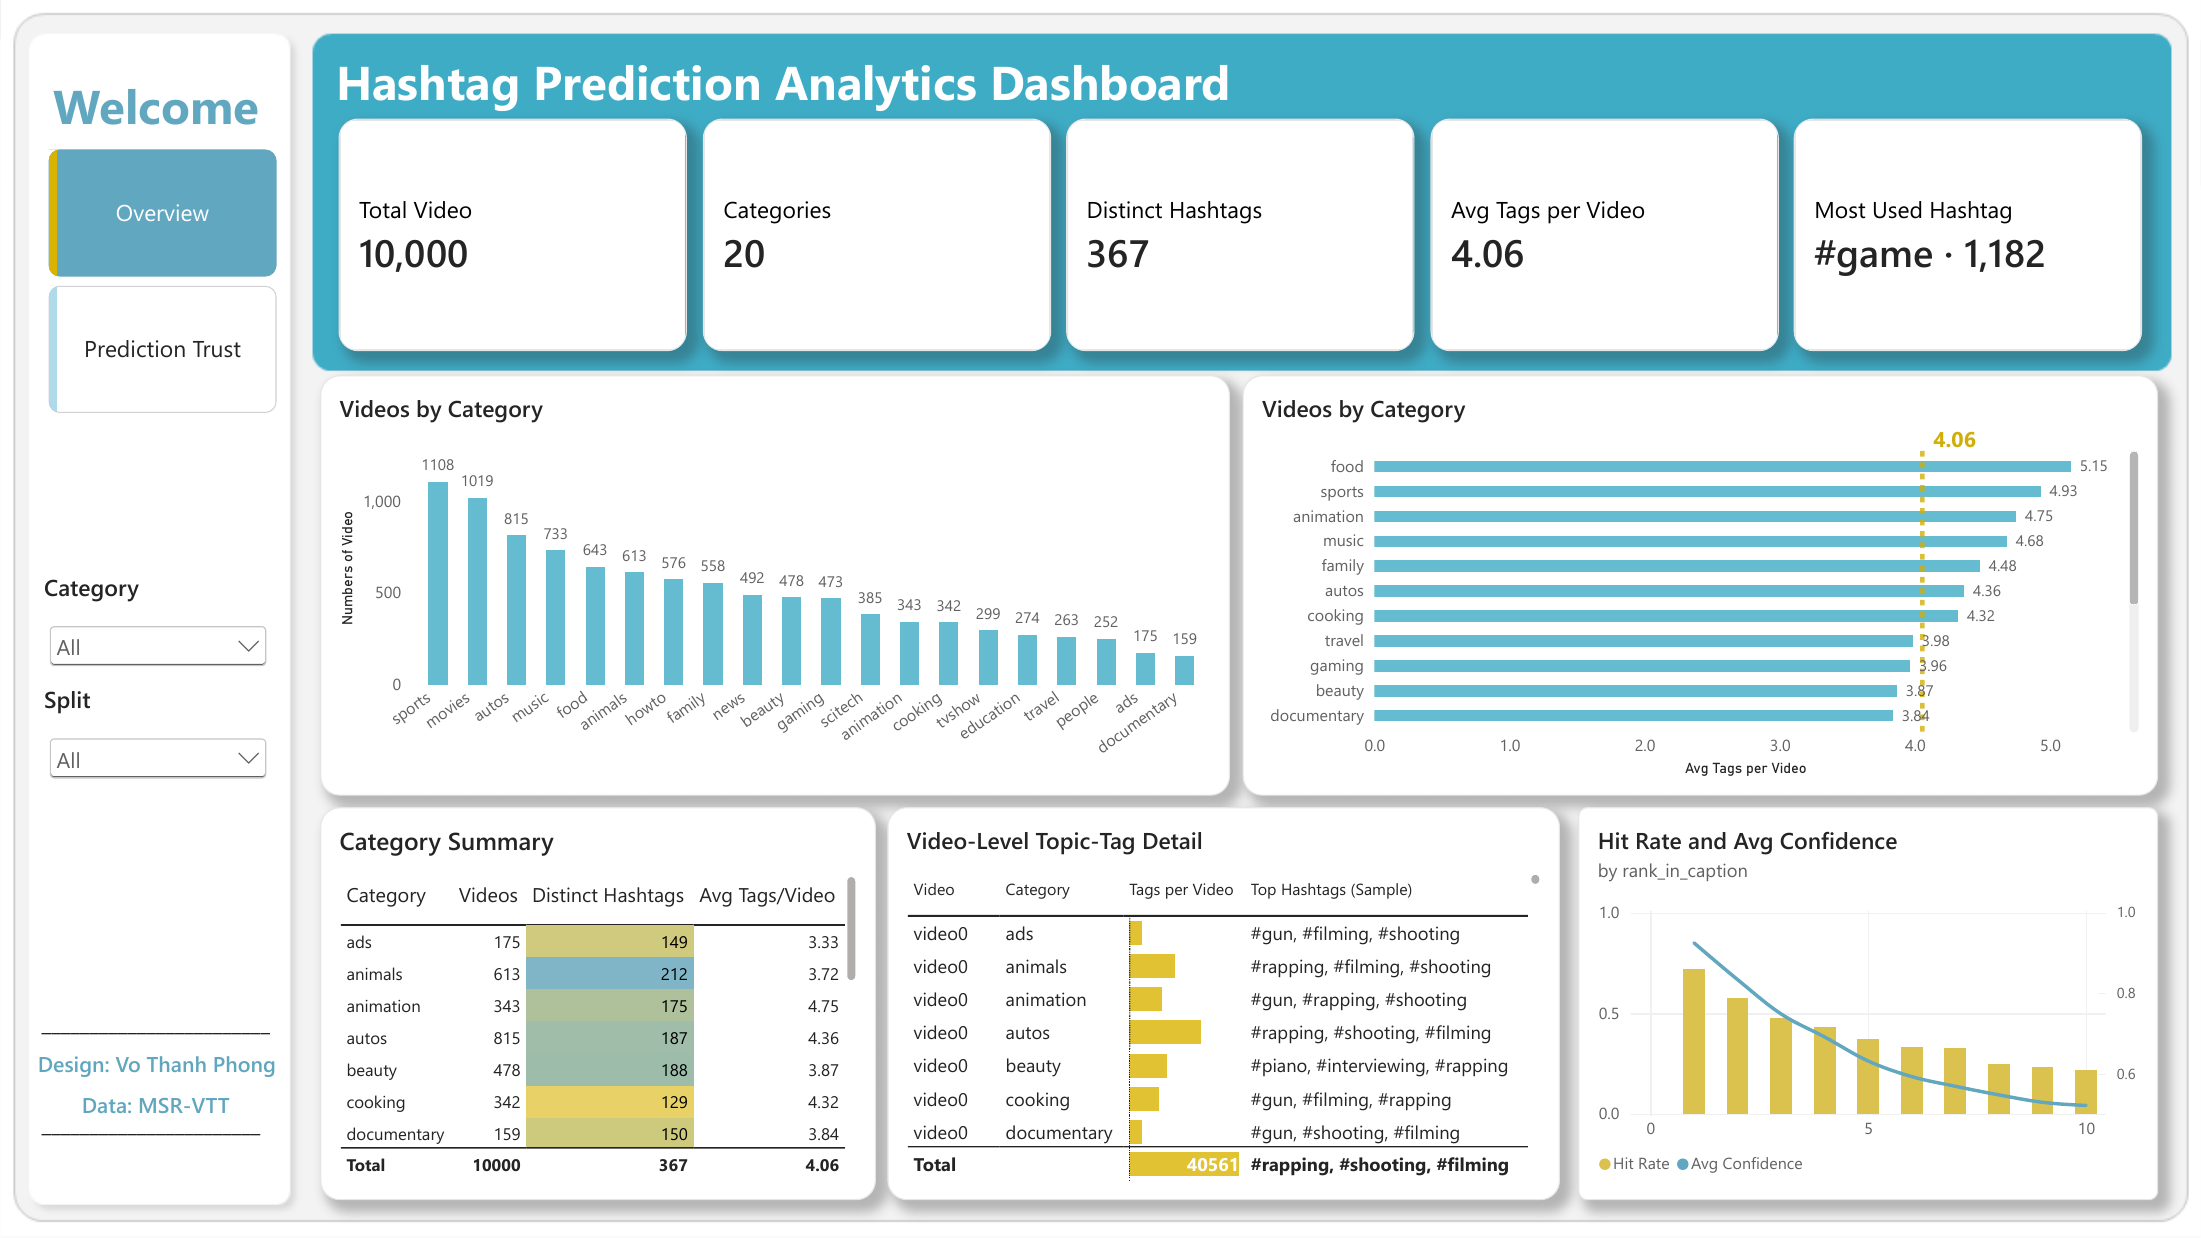

Layout of this report page (visuals, bound fields, positions):
{"tool":"powerbi","page":{"name":"Overview","canvas":[1920,1080],"ordinal":0},"visuals":[{"type":"cardVisual","fields":{"Data":["Count(fact_gold_label.video_id)"]},"box":[295.1,103,304,203],"z":0},{"type":"clusteredColumnChart","title":"Videos by Category","fields":{"Category":["dim_category.category_name"],"Y":["CountNonNull(dim_video.video_id)"]},"box":[278.6,327.1,794.3,367.1],"z":1000},{"type":"clusteredBarChart","title":"Videos by Category","fields":{"Category":["dim_category.category_name"],"Y":["*Measure.Avg Tags per Video"]},"box":[1084.3,327.1,798.6,367.1],"z":2000},{"type":"shape","box":[1672.9,360,65,43.8],"z":3000},{"type":"tableEx","title":"Category Summary","fields":{"Values":["dim_category.category_name","*Measure.Videos","*Measure.Distinct Hashtags","*Measure.Avg Tags per Video"]},"box":[278.6,704.3,485.7,342.9],"z":4000},{"type":"tableEx","title":"Video-Level Topic-Tag Detail","fields":{"Values":["dim_caption.video_id","dim_category.category_name","*Measure.Tags per Video","*Measure.Top Hashtags (Sample)"]},"box":[774.3,704.3,587.1,342.9],"z":5000},{"type":"lineClusteredColumnComboChart","fields":{"Category":["fact_prediction.rank_in_caption"],"Y":["*Measure.Hit Rate"],"Y2":["*Measure.Avg Confidence"]},"box":[1377.1,704.3,505.7,342.9],"z":6000},{"type":"cardVisual","fields":{"Data":["Count(dim_category.category_name)"]},"box":[612.5,103,304,203],"z":8000},{"type":"cardVisual","fields":{"Data":["*Measure.Distinct Hashtags"]},"box":[930,103,304,203],"z":9000},{"type":"cardVisual","fields":{"Data":["*Measure.Avg Tags per Video"]},"box":[1247.5,103,304,203],"z":10000},{"type":"cardVisual","fields":{"Data":["*Measure.Top Hashtag"]},"box":[1565,103,304,203],"z":11000},{"type":"pageNavigator","box":[42,130,199,230],"z":13000},{"type":"slicer","title":"Category","fields":{"Values":["dim_category.category_name"]},"box":[38.1,498.4,199.4,97.9],"z":14000},{"type":"slicer","title":"Split","fields":{"Values":["dim_video.split"]},"box":[38.1,596.3,199.4,97.9],"z":15000},{"type":"shape","title":"Hashtag Prediction Analytics Dashboard","box":[292.6,41.8,908.9,60.4],"z":19001},{"type":"shape","title":"Welcome","box":[41.7,63.4,188.5,59.8],"z":19002},{"type":"shape","title":"________________________","box":[36.2,882.7,199.4,38.1],"z":19003},{"type":"shape","title":"________________________","box":[35.7,971.4,199.4,38.1],"z":19004},{"type":"shape","title":"Design: Vo Thanh Phong","box":[18.6,915.7,235.7,37.1],"z":19005},{"type":"shape","title":"Data: MSR-VTT","box":[35.7,951.4,199.4,38.1],"z":19006}]}

Visuals, with their boxes in screenshot pixels (x1, y1, x2, y2), scaled from the page's 1920x1080 canvas onto the 2201x1238 screenshot:
cardVisual - Count(fact_gold_label.video_id): detection(338, 118, 687, 351)
"Videos by Category" clusteredColumnChart: detection(319, 375, 1230, 796)
"Videos by Category" clusteredBarChart: detection(1243, 375, 2158, 796)
shape: detection(1918, 413, 1992, 463)
"Category Summary" tableEx: detection(319, 807, 876, 1200)
"Video-Level Topic-Tag Detail" tableEx: detection(888, 807, 1561, 1200)
lineClusteredColumnComboChart - fact_prediction.rank_in_caption x *Measure.Hit Rate: detection(1579, 807, 2158, 1200)
cardVisual - Count(dim_category.category_name): detection(702, 118, 1051, 351)
cardVisual - *Measure.Distinct Hashtags: detection(1066, 118, 1415, 351)
cardVisual - *Measure.Avg Tags per Video: detection(1430, 118, 1779, 351)
cardVisual - *Measure.Top Hashtag: detection(1794, 118, 2143, 351)
pageNavigator: detection(48, 149, 276, 413)
"Category" slicer: detection(44, 571, 272, 684)
"Split" slicer: detection(44, 684, 272, 796)
"Hashtag Prediction Analytics Dashboard" shape: detection(335, 48, 1377, 117)
"Welcome" shape: detection(48, 73, 264, 141)
"________________________" shape: detection(41, 1012, 270, 1056)
"________________________" shape: detection(41, 1114, 270, 1157)
"Design: Vo Thanh Phong" shape: detection(21, 1050, 292, 1092)
"Data: MSR-VTT" shape: detection(41, 1091, 270, 1134)
